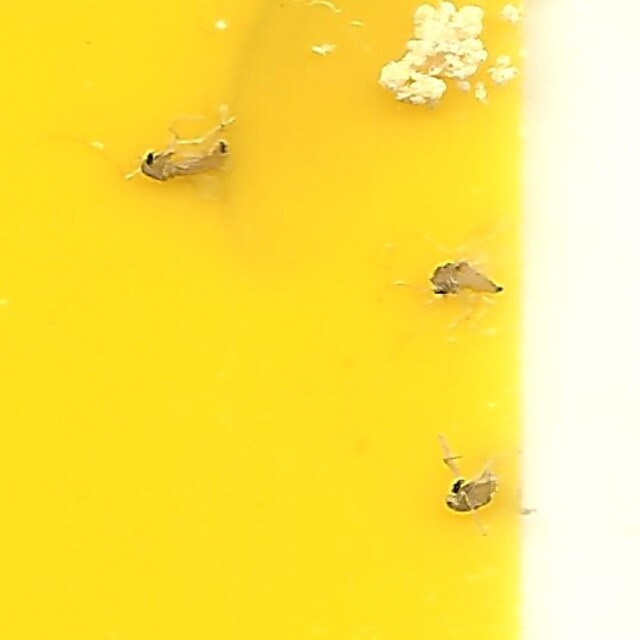Nematocera: (134, 122, 239, 193), (422, 255, 506, 310), (441, 467, 501, 518)
